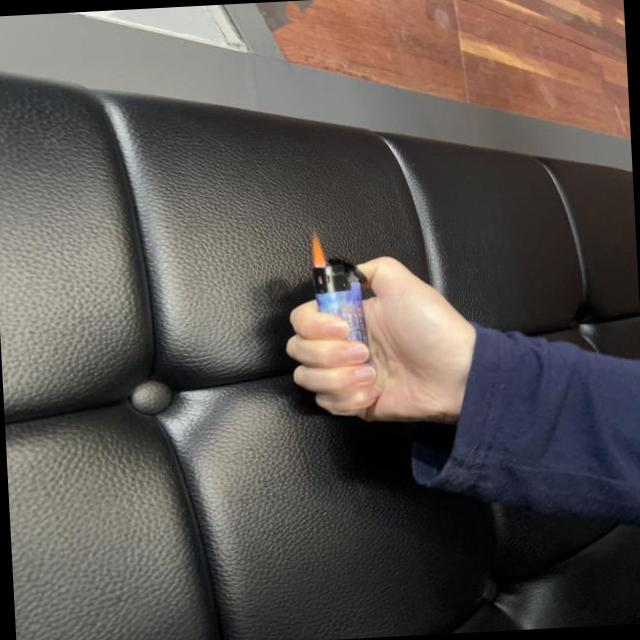Fire: (310, 228, 326, 270)
